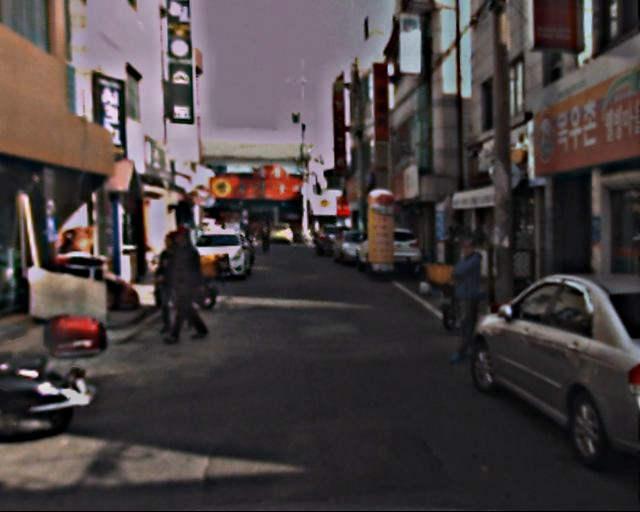person: (160, 225, 216, 343), (442, 237, 494, 360), (258, 219, 273, 256)
